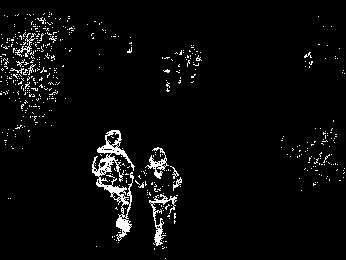person: (136, 144, 183, 248), (92, 128, 134, 241)
